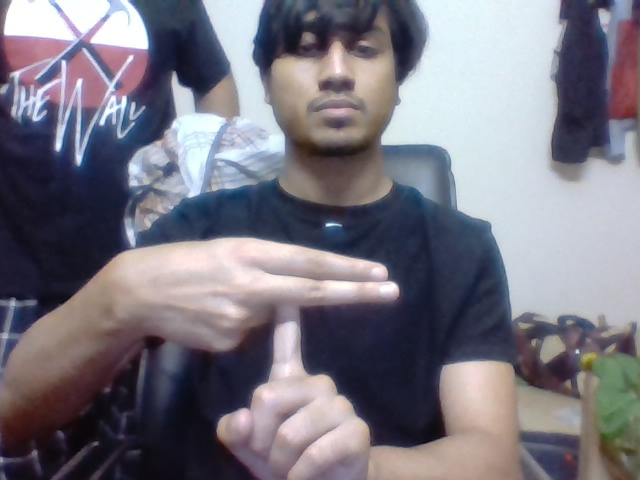F: (263, 237, 404, 374)
